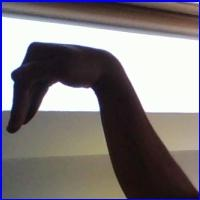A: (5, 34, 122, 152)
